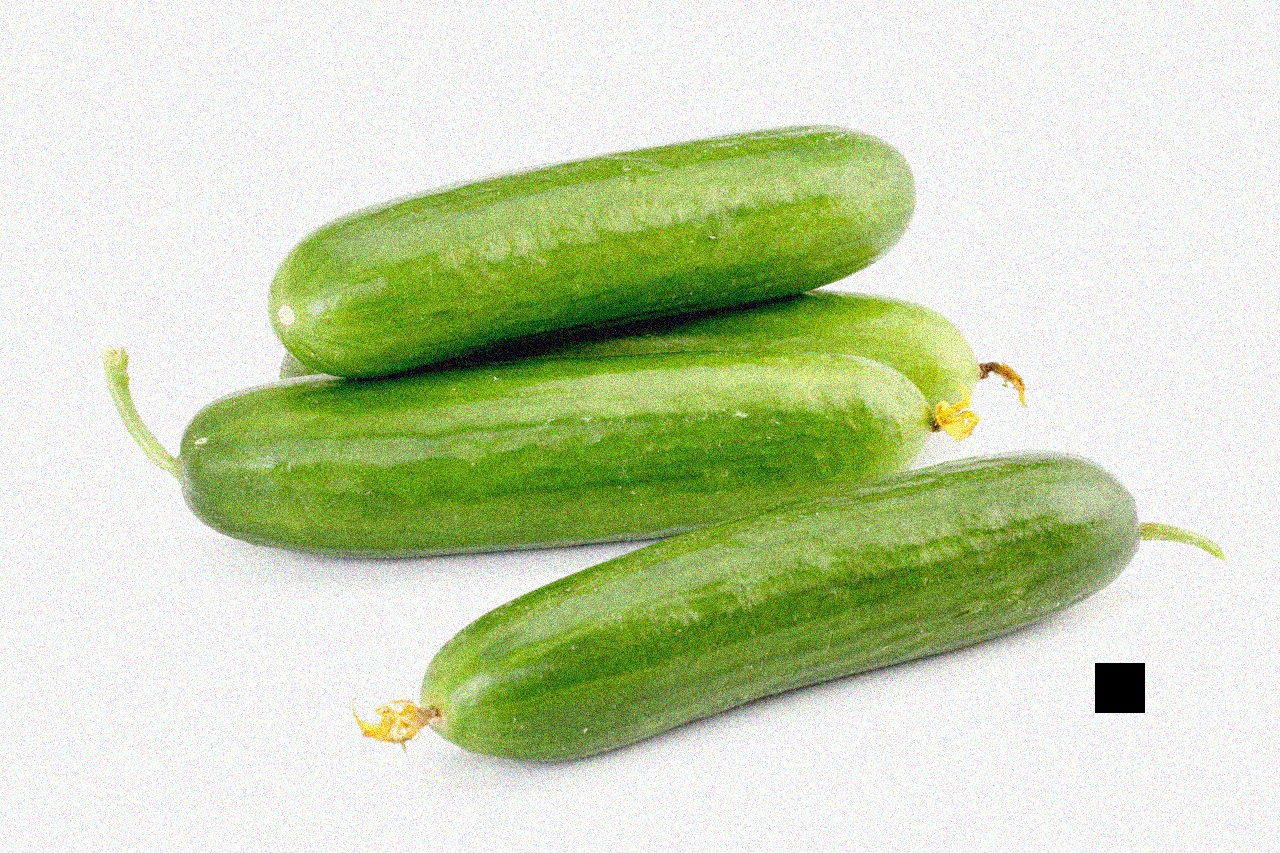cucumber: (420, 473, 1139, 741), (166, 337, 944, 556), (265, 147, 911, 376)
